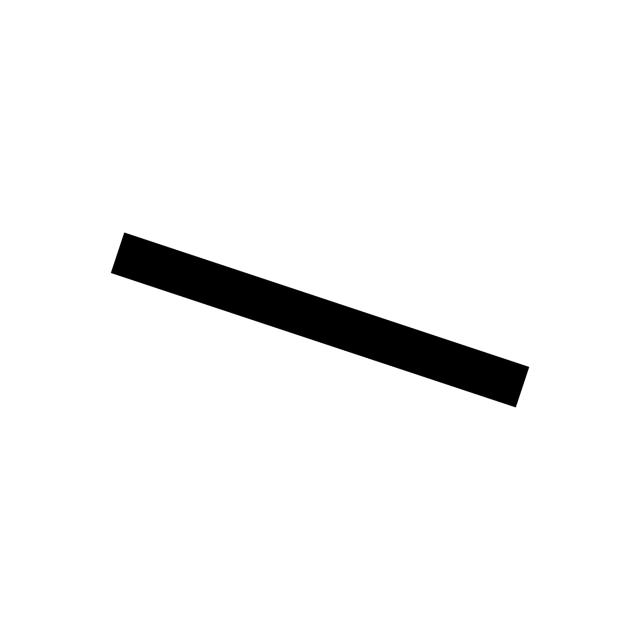line: (110, 232, 529, 408)
